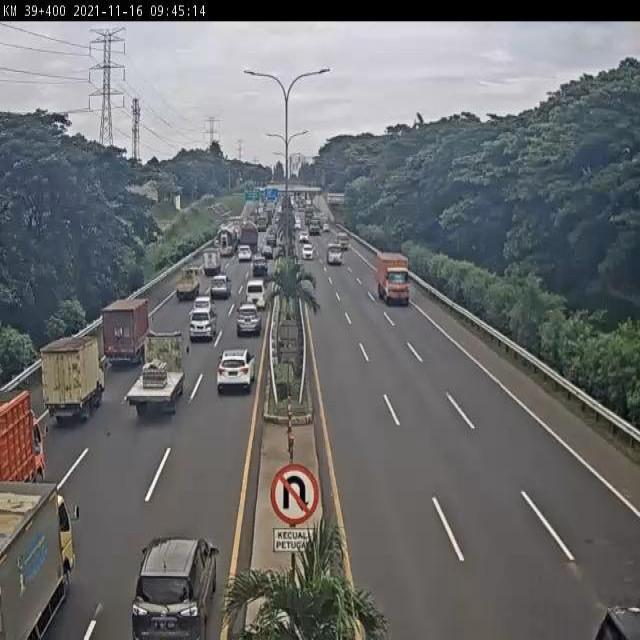car: (130, 538, 218, 640), (217, 347, 257, 393), (184, 314, 212, 349), (238, 308, 262, 339), (245, 283, 264, 313), (207, 278, 227, 306), (185, 300, 207, 323), (251, 261, 269, 279)
small truck: (41, 337, 99, 419), (101, 298, 150, 366), (170, 267, 196, 304), (201, 245, 220, 278)
truck-m-: (126, 336, 188, 417), (374, 249, 410, 303)
